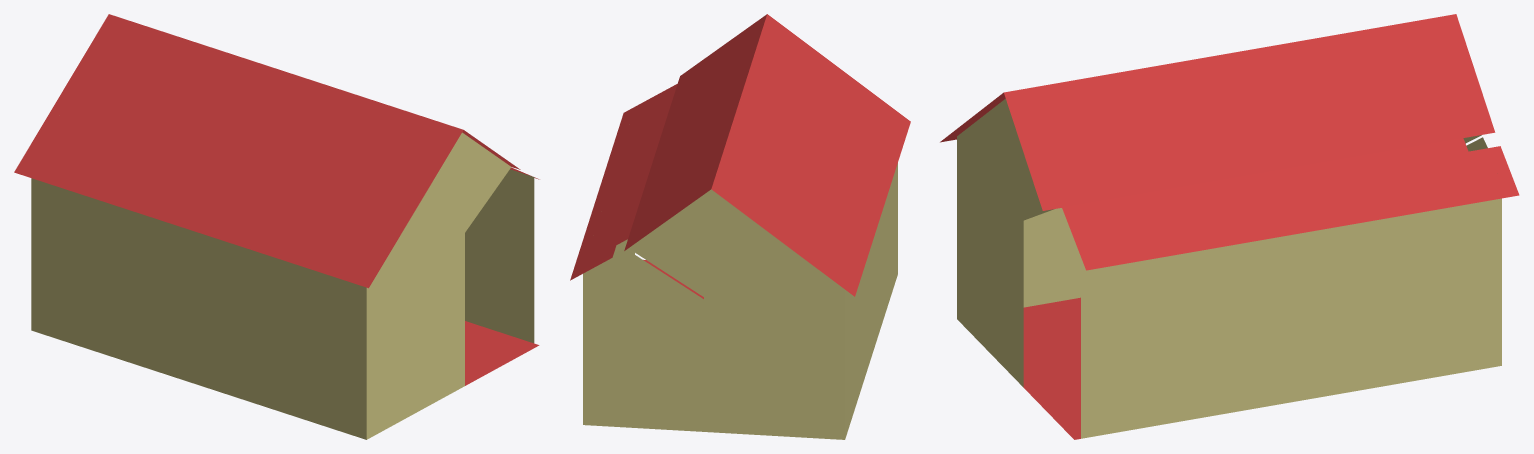
3 renders of one model, left to right at view 1: azimuth 30°, elevation 25°; view 2: azimuth 150°, elevation 25°; view 3: azimuth 270°, elevation 25°, orthographic. The views are drawn at different scales.
Size of the model in its own units: 18.12 by 21.51 by 11.86.
